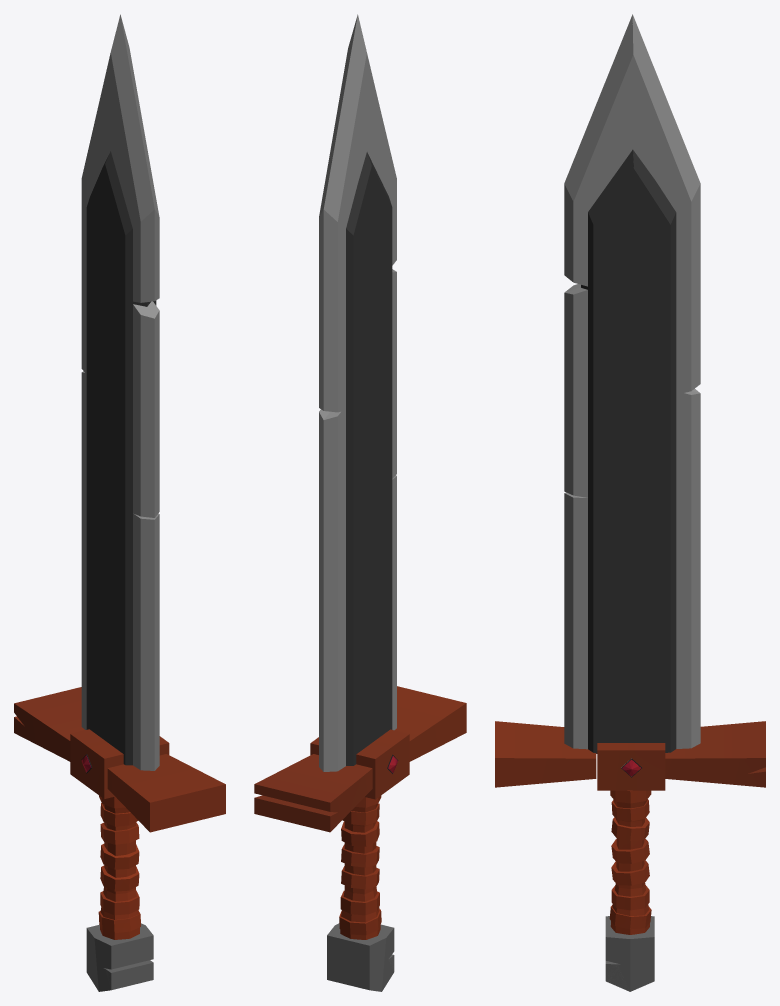
Rendered from sword 1.fbx.
The picture shows the model from 3 angles, left to right: view 1: azimuth 30°, elevation 25°; view 2: azimuth 150°, elevation 25°; view 3: azimuth 270°, elevation 25°; orthographic projection.
Parts seen in each view (by area): view 1: Cube.008; view 2: Cube.008; view 3: Cube.008.
Part boxes in pixels (bbox=[...]): Cube.008: bbox=[14, 14, 225, 991]; Cube.008: bbox=[254, 14, 466, 991]; Cube.008: bbox=[495, 14, 765, 991].
Bounding box in the file's own units: 28.85 × 353 × 89.51.
1 material, 1 textured.
